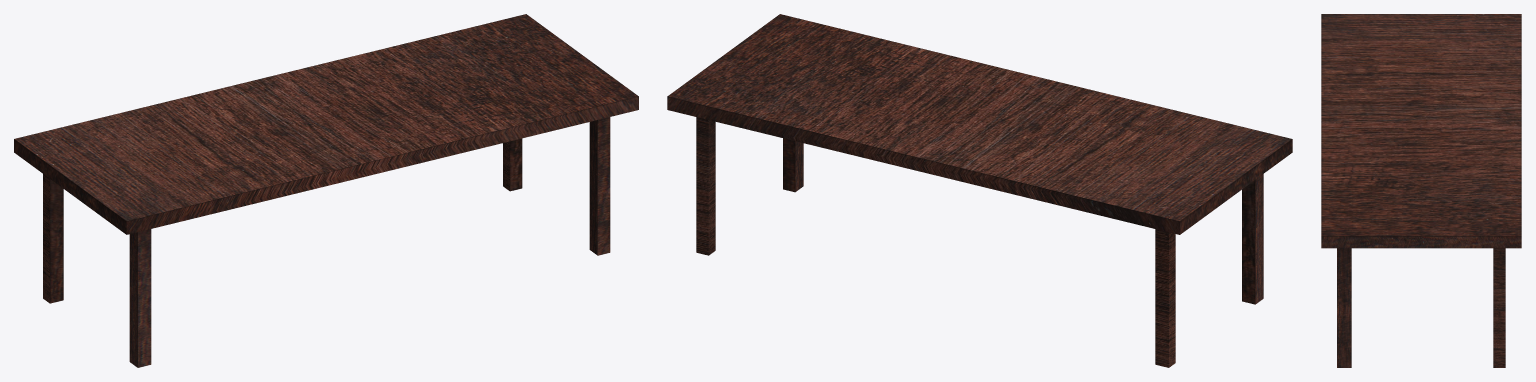
The model's file is crn_table.fbx.
3 renders of one model, left to right at view 1: azimuth 30°, elevation 25°; view 2: azimuth 150°, elevation 25°; view 3: azimuth 270°, elevation 25°, orthographic. The views are drawn at different scales.
Parts seen in each view (by area): view 1: table; view 2: table; view 3: table.
Part boxes in pixels (bbox=[...]): table: bbox=[14, 14, 638, 367]; table: bbox=[667, 14, 1292, 367]; table: bbox=[1321, 14, 1521, 367].
Bounding box in the file's own units: 8.04 × 2.37 × 3.06.
